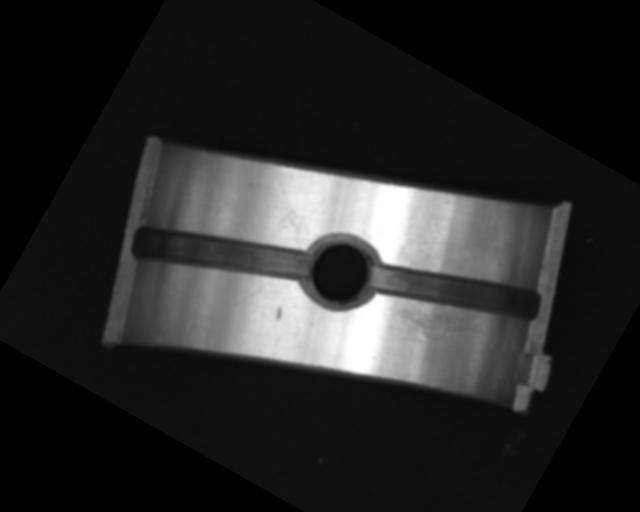bruise: (271, 305, 287, 323)
gap: (127, 176, 315, 335), (367, 216, 547, 362)
hole: (290, 221, 391, 323)
scratch: (383, 276, 490, 365)
